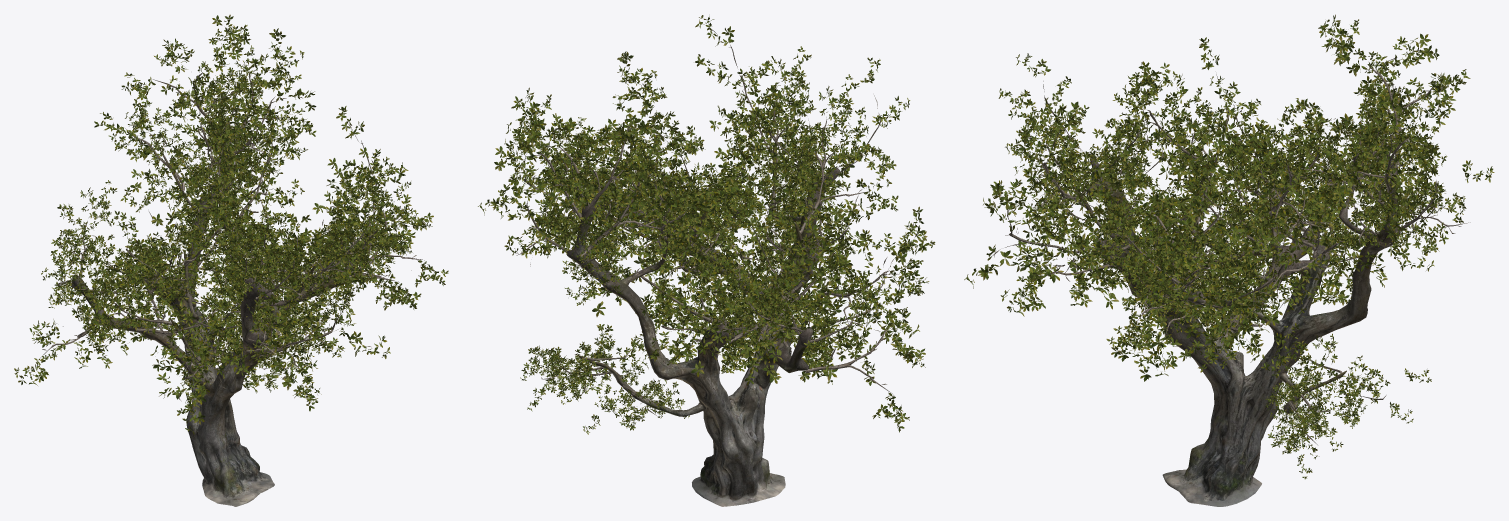
Rendered from island_tree_01.glb.
3 views of the same model, side by side, from view 1: azimuth 30°, elevation 25°; view 2: azimuth 150°, elevation 25°; view 3: azimuth 270°, elevation 25° (orthographic). The views are drawn at different scales.
Visible parts, largest first — view 1: island_tree_01_LOD0; view 2: island_tree_01_LOD0; view 3: island_tree_01_LOD0.
Boxes of the visible parts, x1,y1,x2,y2 form: island_tree_01_LOD0: (14,14,448,506); island_tree_01_LOD0: (478,15,935,506); island_tree_01_LOD0: (964,14,1494,506).
Bounding box in the file's own units: 4.75 × 5.02 × 4.82.
Materials: 3 (3 with a texture image).
